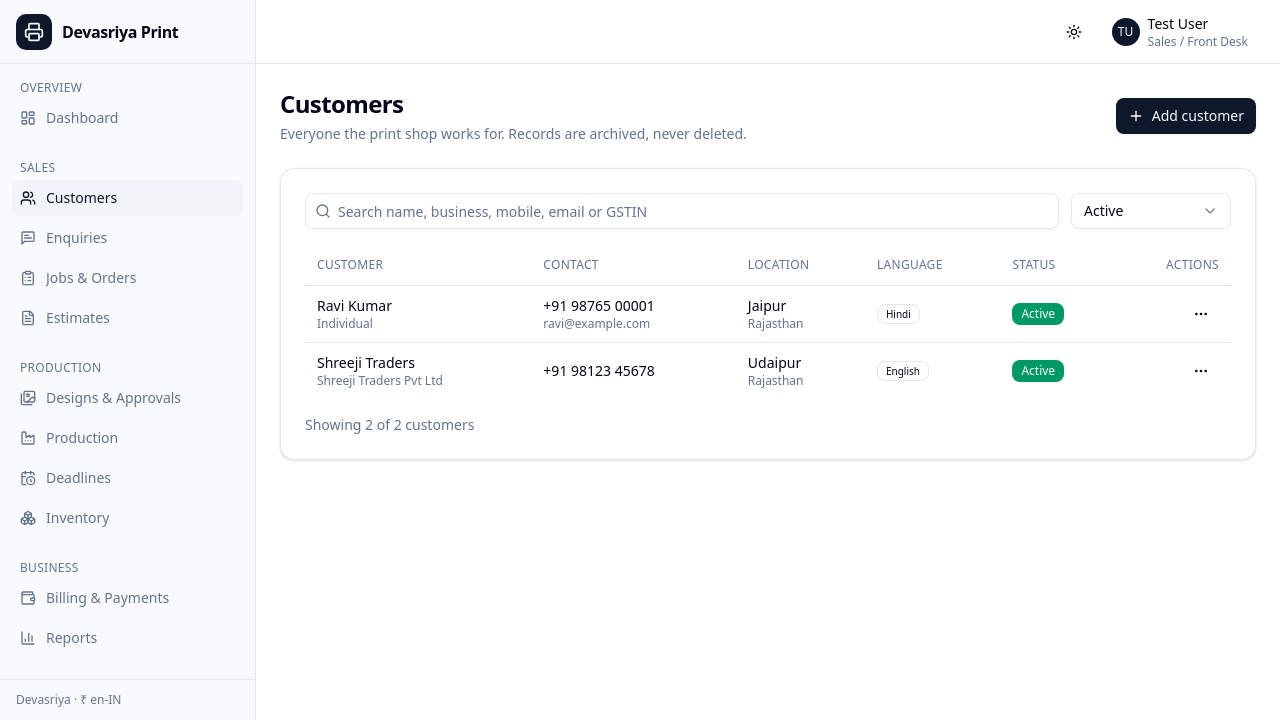
Test: customer directory › can show archived customers
Click the dropdown named "Filter by status" at (1151, 211), box x1=1071 y1=193 x2=1231 y2=229
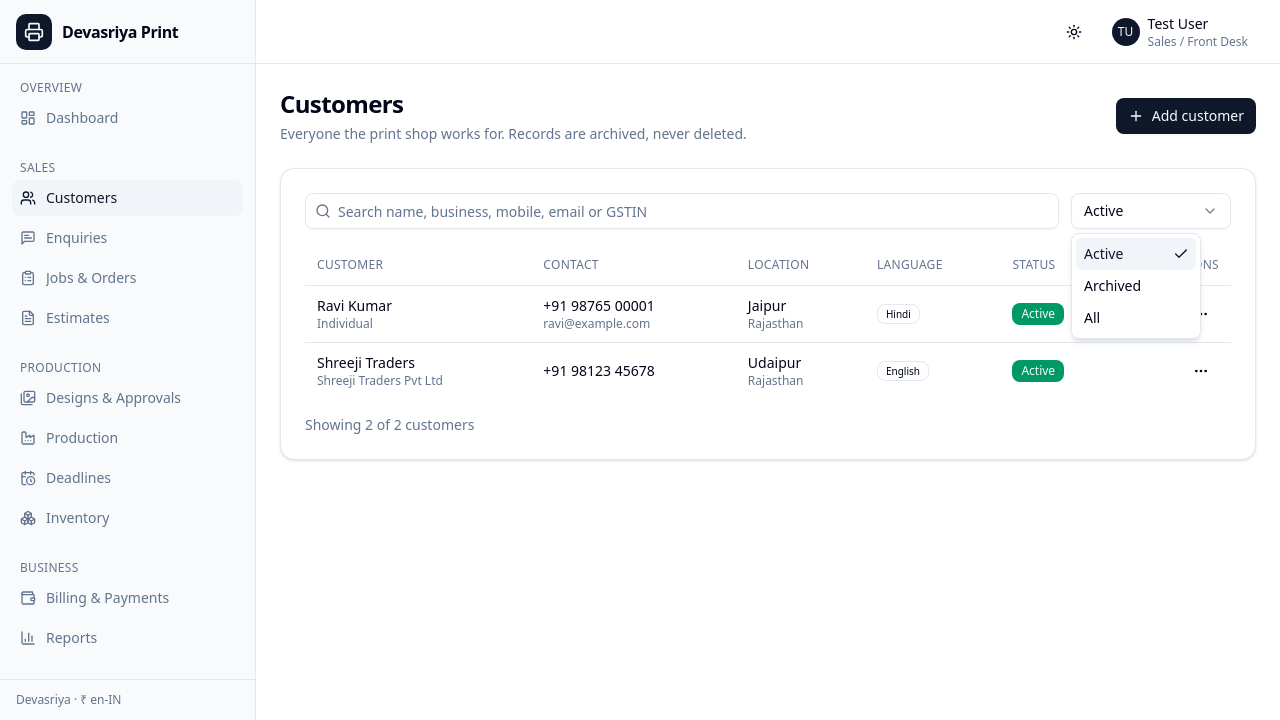
Click the option "Archived" at (1113, 286), box x1=1084 y1=276 x2=1141 y2=295
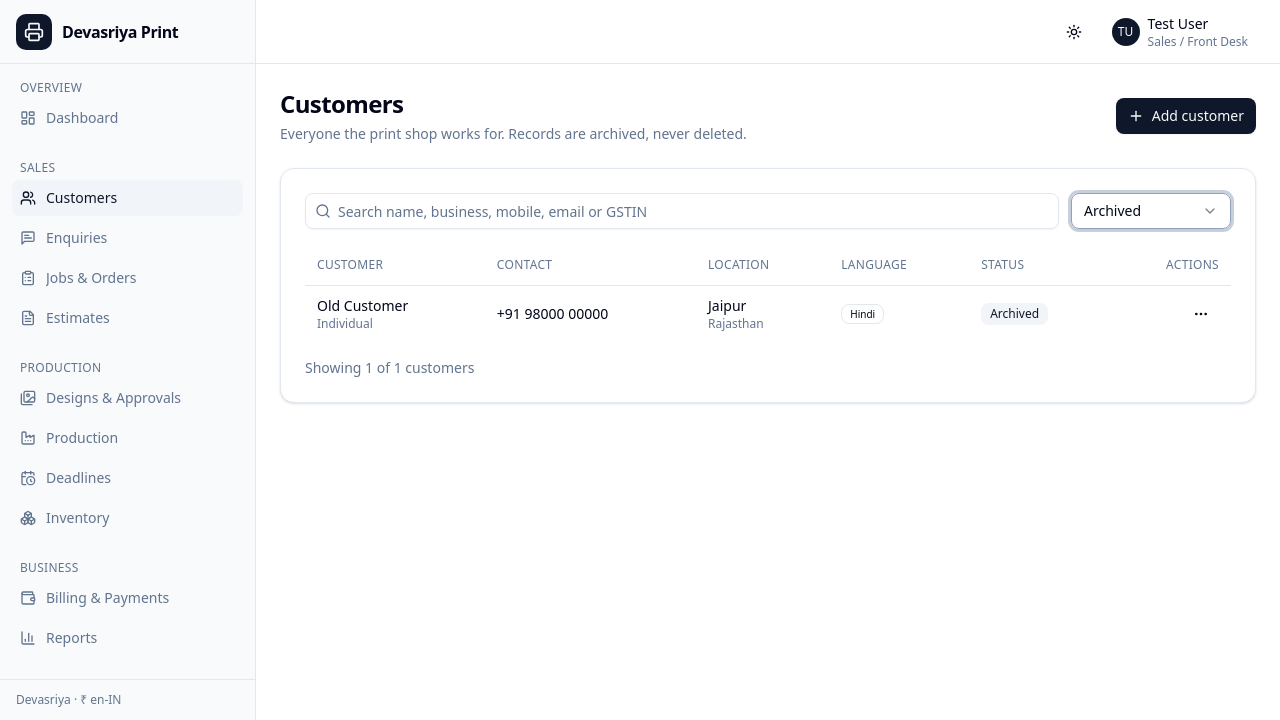
Now the link "Old Customer" is shown, box x1=317 y1=296 x2=408 y2=314
Now the link "Ravi Kumar" is gone
